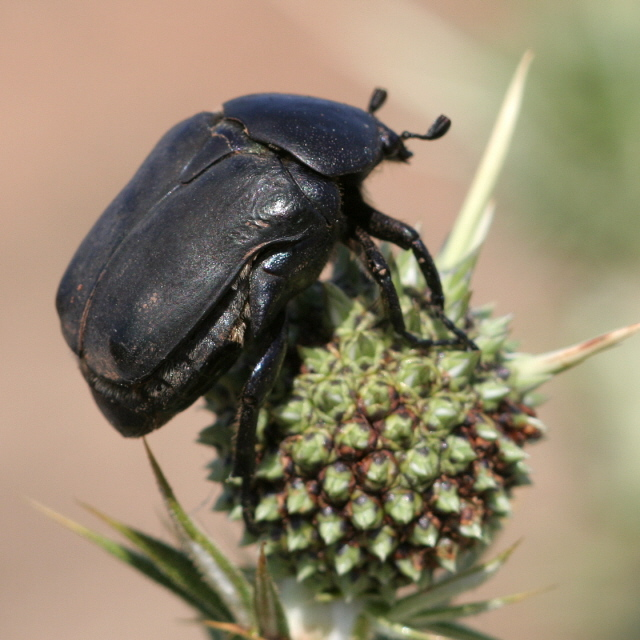Protaetia_afflicta: (42, 77, 488, 510)
